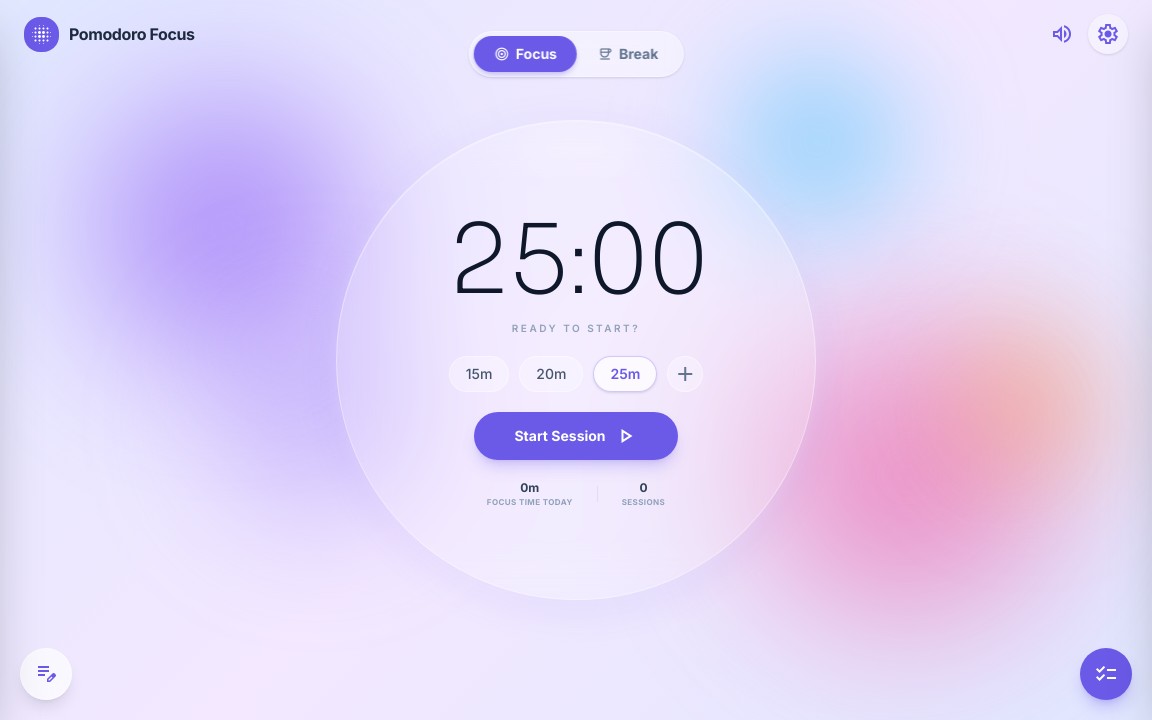
Test: AC-19 Notes CRUD + drawer behavior › requires non-empty text to add, and stamps each note
The image size is (1152, 720).
Click the button named "Open notes" at (46, 674), box [20,648,72,700]
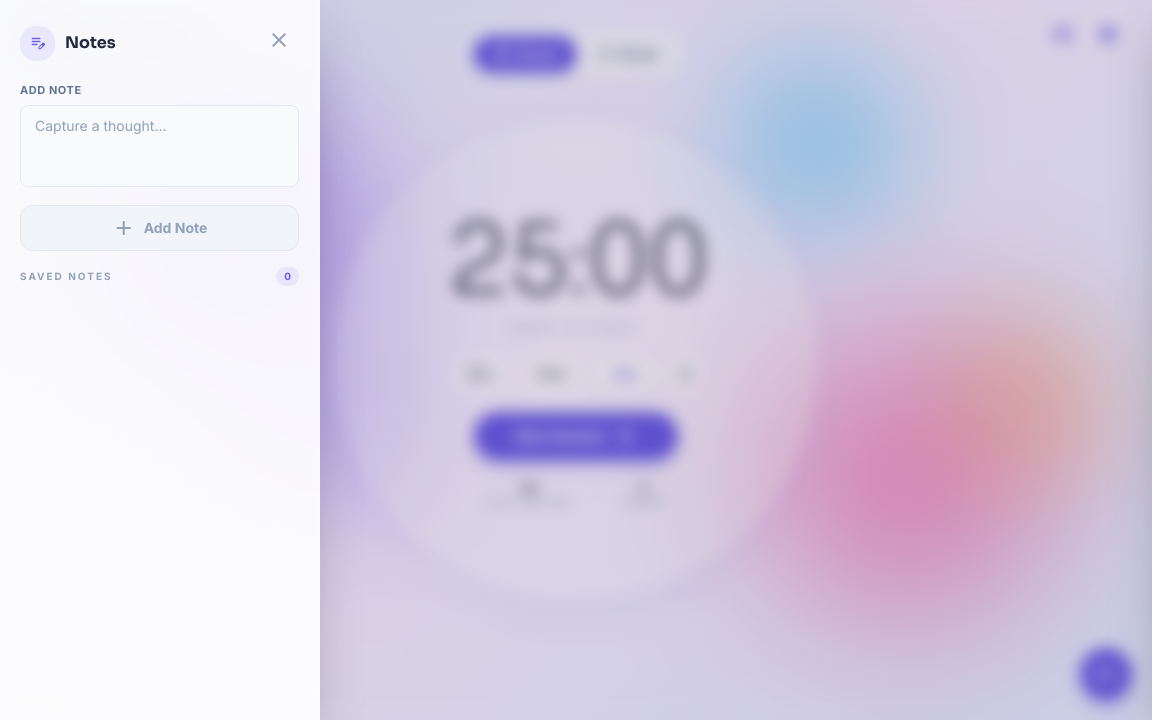
Check: the button "Add Note" is disabled, box [20,204,299,250]
Type "Refactor the store" into the text box with placeholder "Capture a thought…" at (160, 146), box [20,104,299,186]
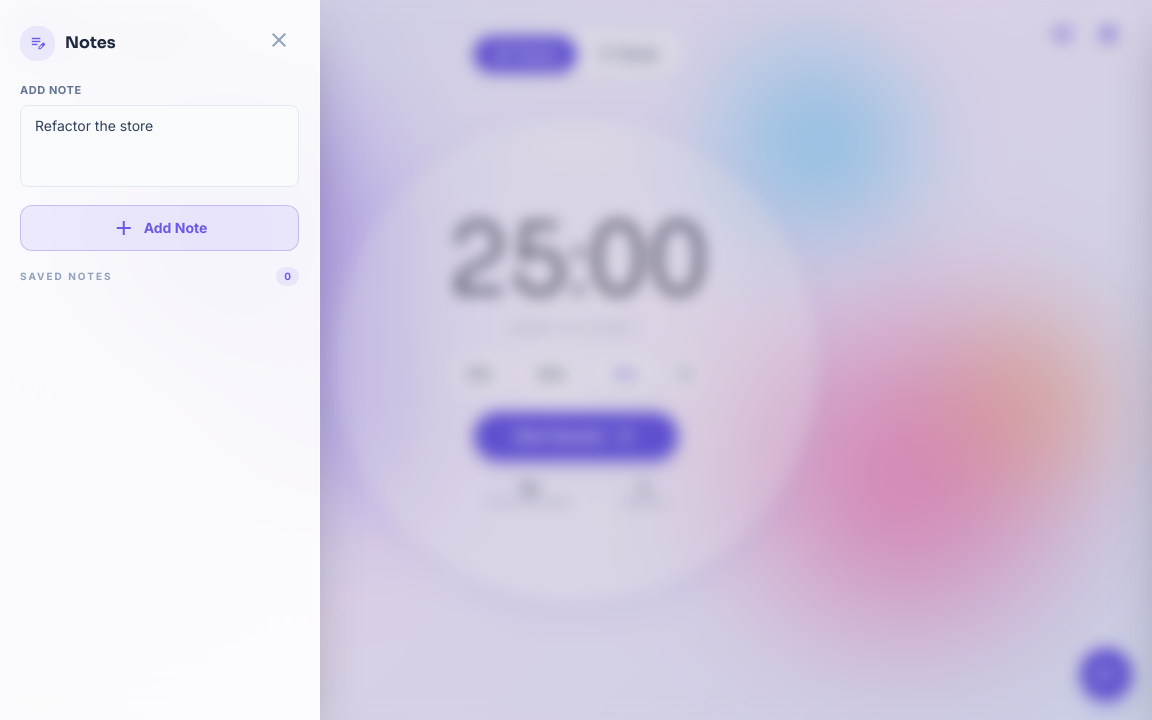
Click the button "Add Note" at (160, 228), box [20,204,299,250]
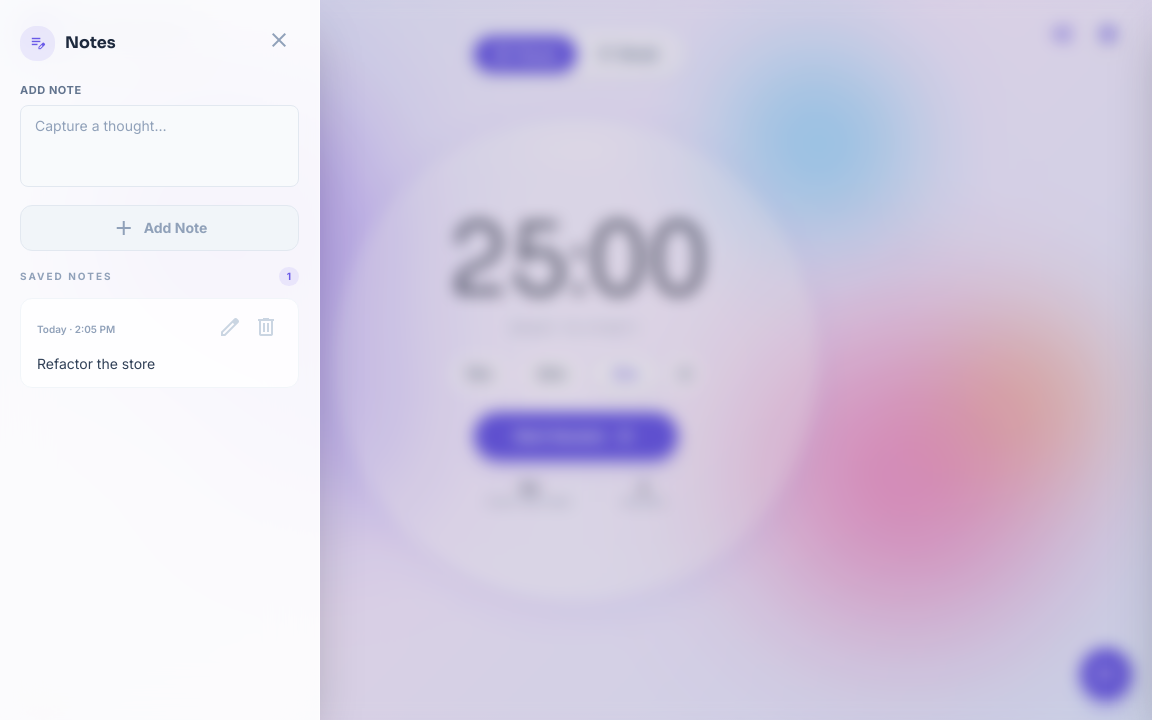
Check: the text "1" is shown, box [279,266,299,286]
Check: the text "Refactor the store" is shown, box [37,354,155,372]
Check: the text "Today · 2:05 PM" is shown, box [37,322,115,337]
